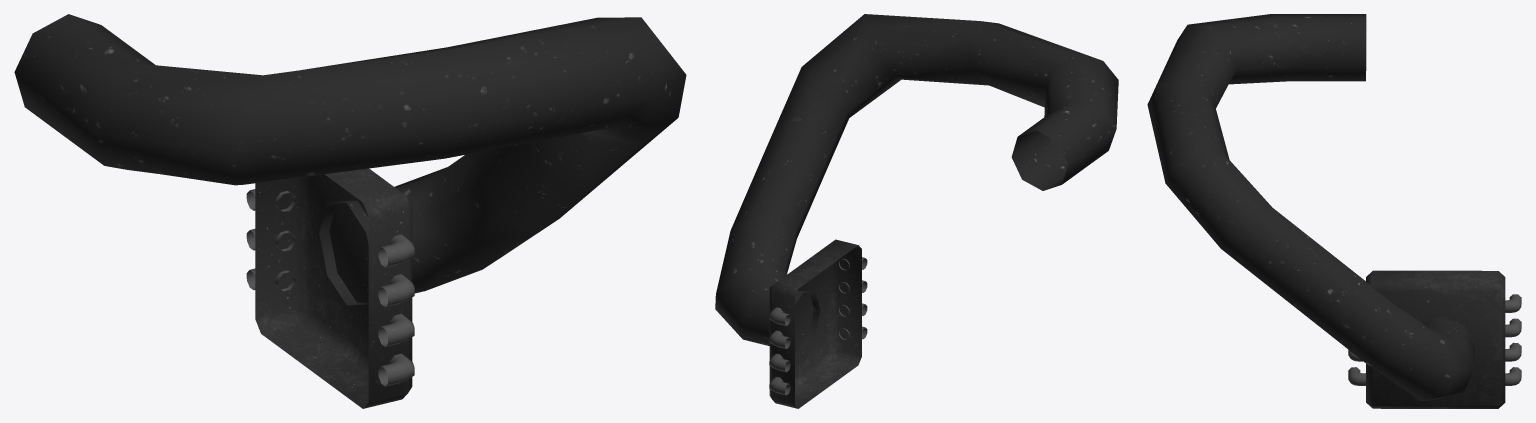
File: pipes_bed.obj
3 renders of one model, left to right at view 1: azimuth 30°, elevation 25°; view 2: azimuth 150°, elevation 25°; view 3: azimuth 270°, elevation 25°, orthographic. The views are drawn at different scales.
Visible parts, largest first — view 1: Box206; view 2: Box206; view 3: Box206.
Part boxes in pixels (<box>): Box206: <box>14,14,686,408</box>; Box206: <box>715,14,1118,408</box>; Box206: <box>1147,14,1521,408</box>.
Bounding box in the file's own units: 1.07 × 0.8866 × 1.
Materials: 1 (1 with a texture image).
